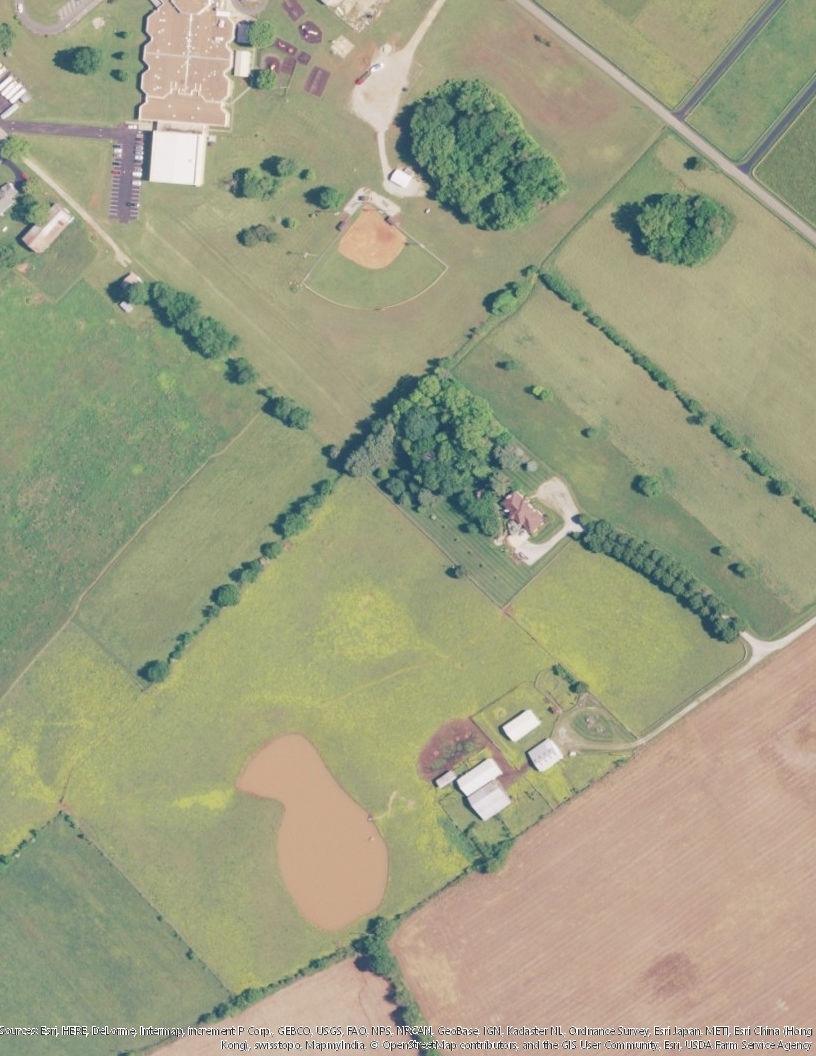cafo: (455, 757, 510, 820), (501, 707, 540, 745)
